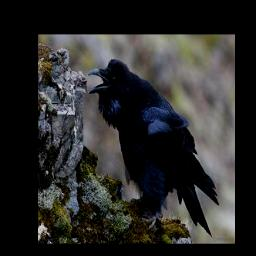Crow: (87, 57, 219, 239)
